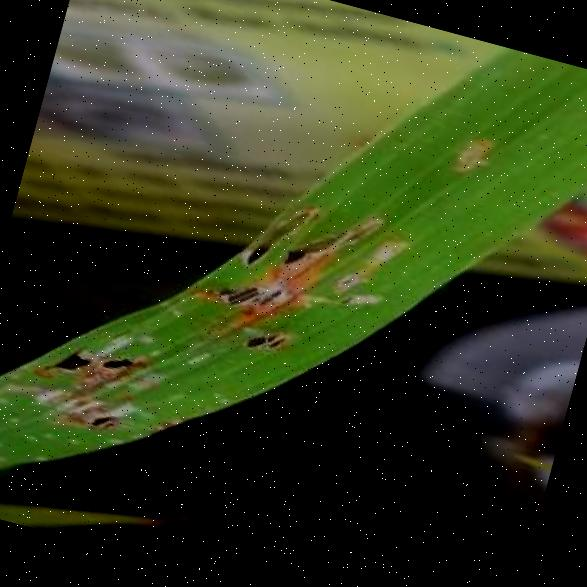Leaf_smut: (244, 185, 382, 295), (43, 288, 161, 406), (29, 364, 146, 482), (201, 254, 304, 330), (214, 306, 301, 376)
